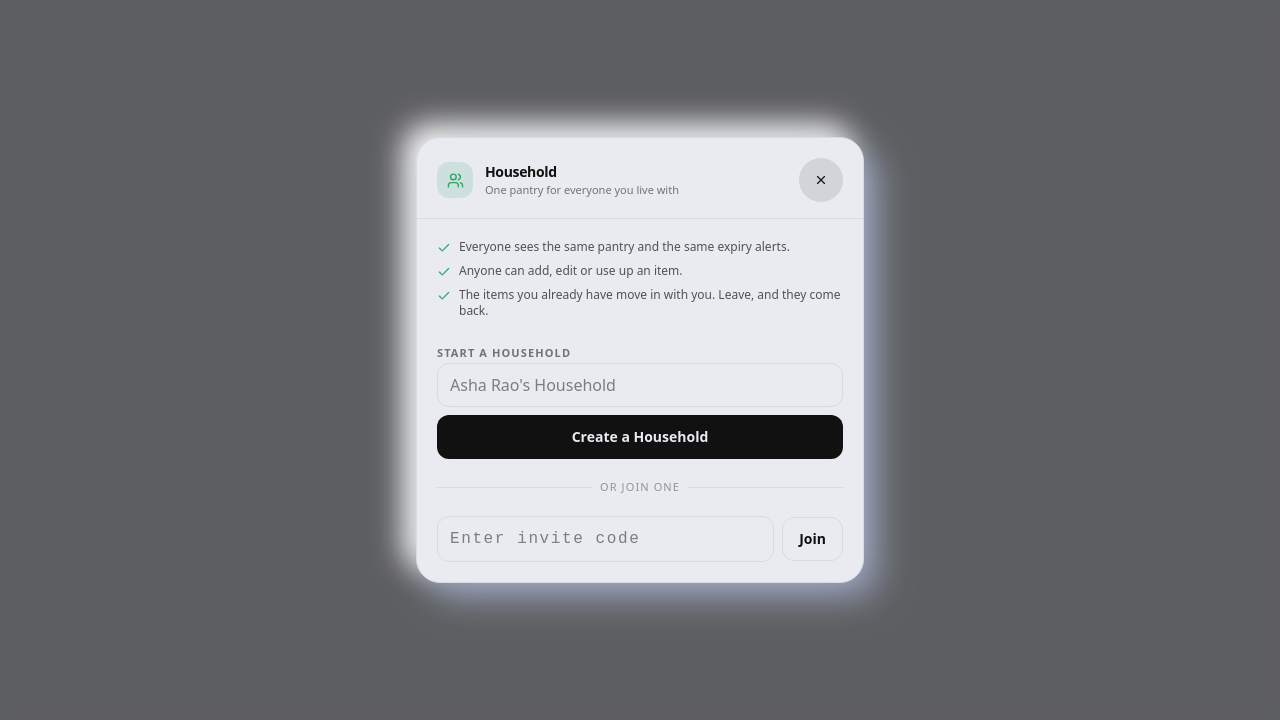
Test: HouseholdModal — joining › explains a missing migration instead of blaming the code
Step 1. Type "abc" into the field with placeholder "Enter invite code" → (606, 539), box [437,516,774,562]
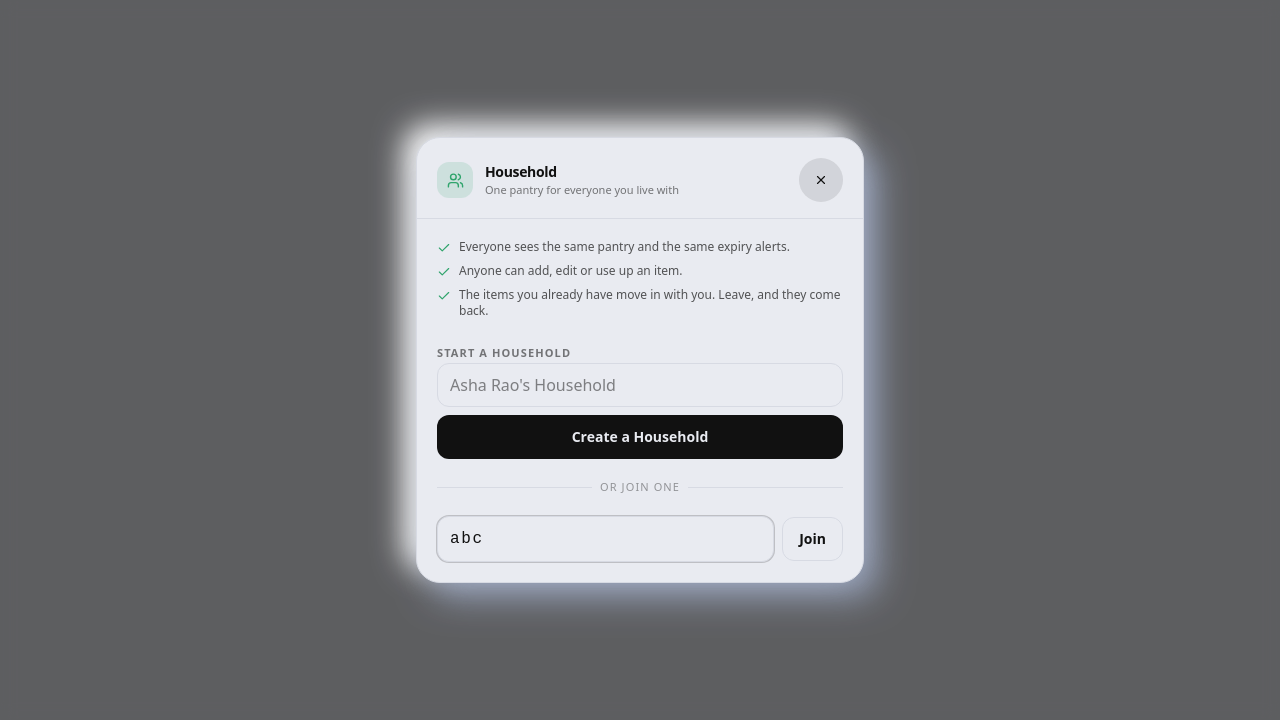
Step 2. Click the button "Join" → (813, 539), box [782,517,843,561]
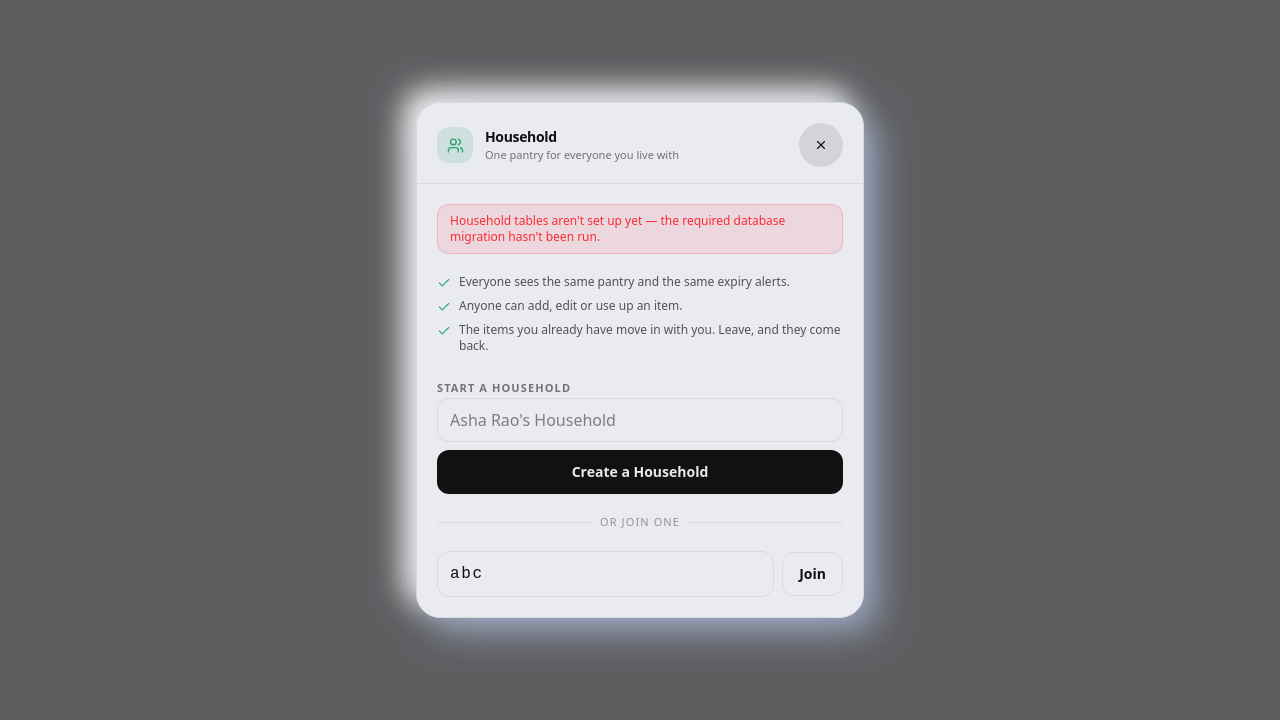
Expected: the text "migration hasn't been run" is shown, [450,212,785,245]
